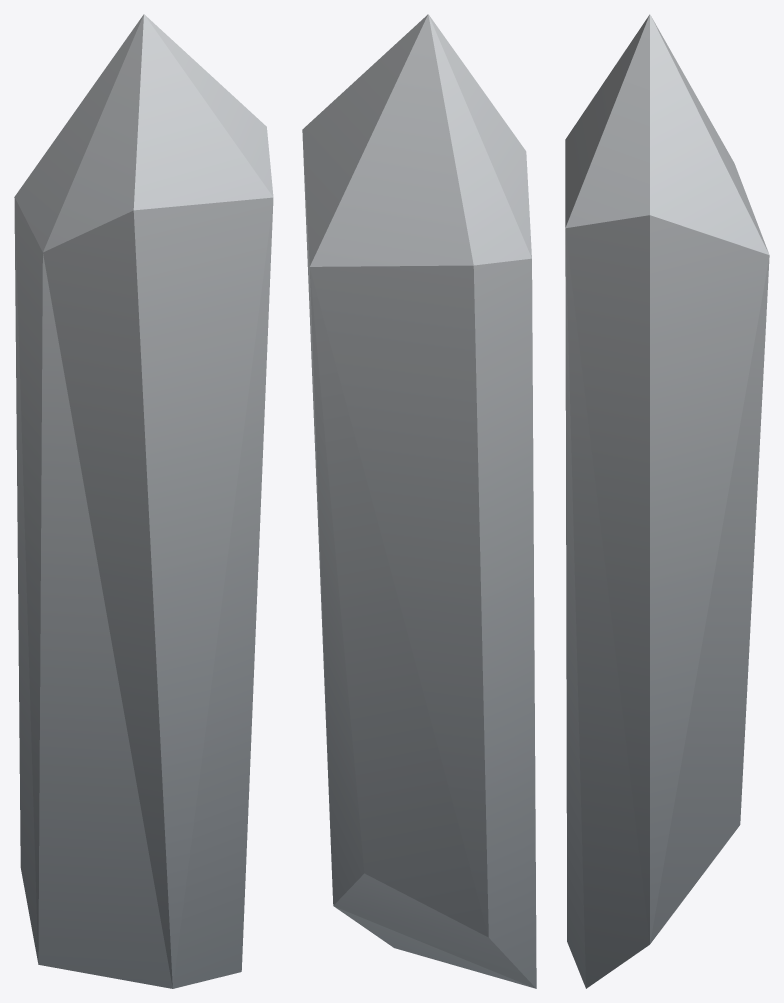
File: Crystal4.fbx
3 renders of one model, left to right at view 1: azimuth 30°, elevation 25°; view 2: azimuth 150°, elevation 25°; view 3: azimuth 270°, elevation 25°, orthographic. The views are drawn at different scales.
Parts seen in each view (by area): view 1: Crystal4; view 2: Crystal4; view 3: Crystal4.
Part boxes in pixels (x1,y1,x2,y2): Crystal4: (14,14,273,988); Crystal4: (302,14,536,988); Crystal4: (565,14,769,988).
Bounding box in the file's own units: 3.12 × 12.41 × 2.44.
